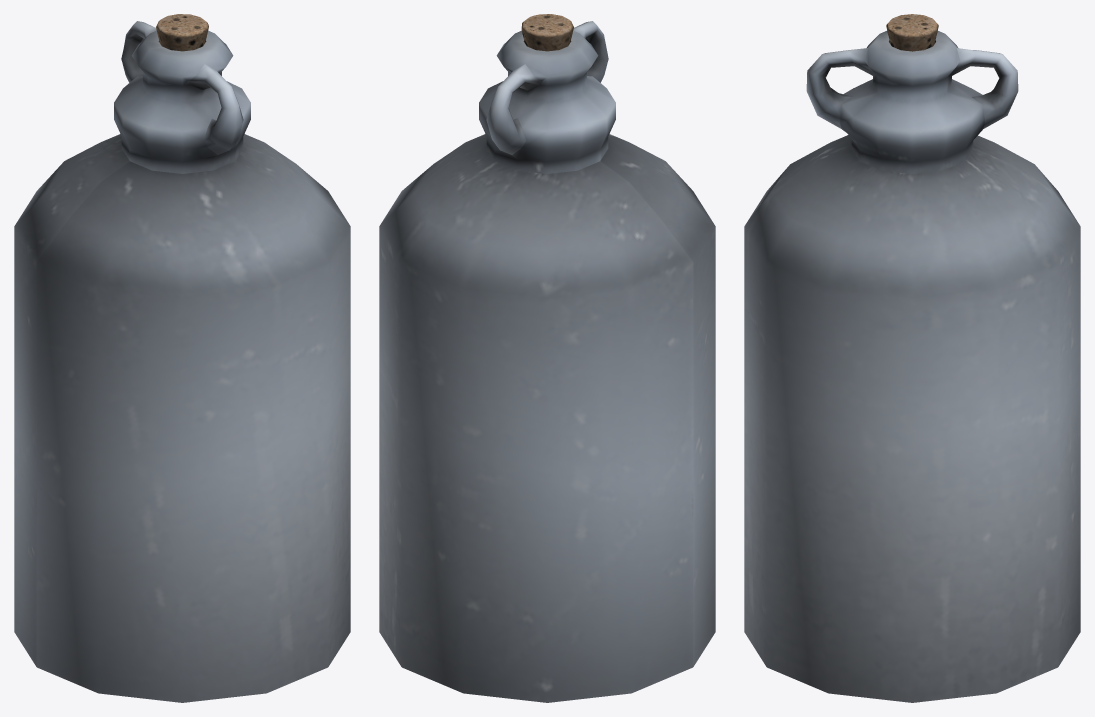
File: Bottle_SketchFab.fbx
The picture shows the model from 3 angles, left to right: view 1: azimuth 30°, elevation 25°; view 2: azimuth 150°, elevation 25°; view 3: azimuth 270°, elevation 25°; orthographic projection.
Parts seen in each view (by area): view 1: Bottle_Low, Cork_Low_New; view 2: Bottle_Low, Cork_Low_New; view 3: Bottle_Low, Cork_Low_New.
Part boxes in pixels (x1,y1,x2,y2): Bottle_Low: (14, 21, 350, 702); Cork_Low_New: (156, 14, 208, 51); Bottle_Low: (379, 21, 715, 702); Cork_Low_New: (521, 14, 573, 51); Bottle_Low: (744, 31, 1080, 702); Cork_Low_New: (886, 14, 938, 51).
Bounding box in the file's own units: 2.62 × 5.23 × 2.62.
